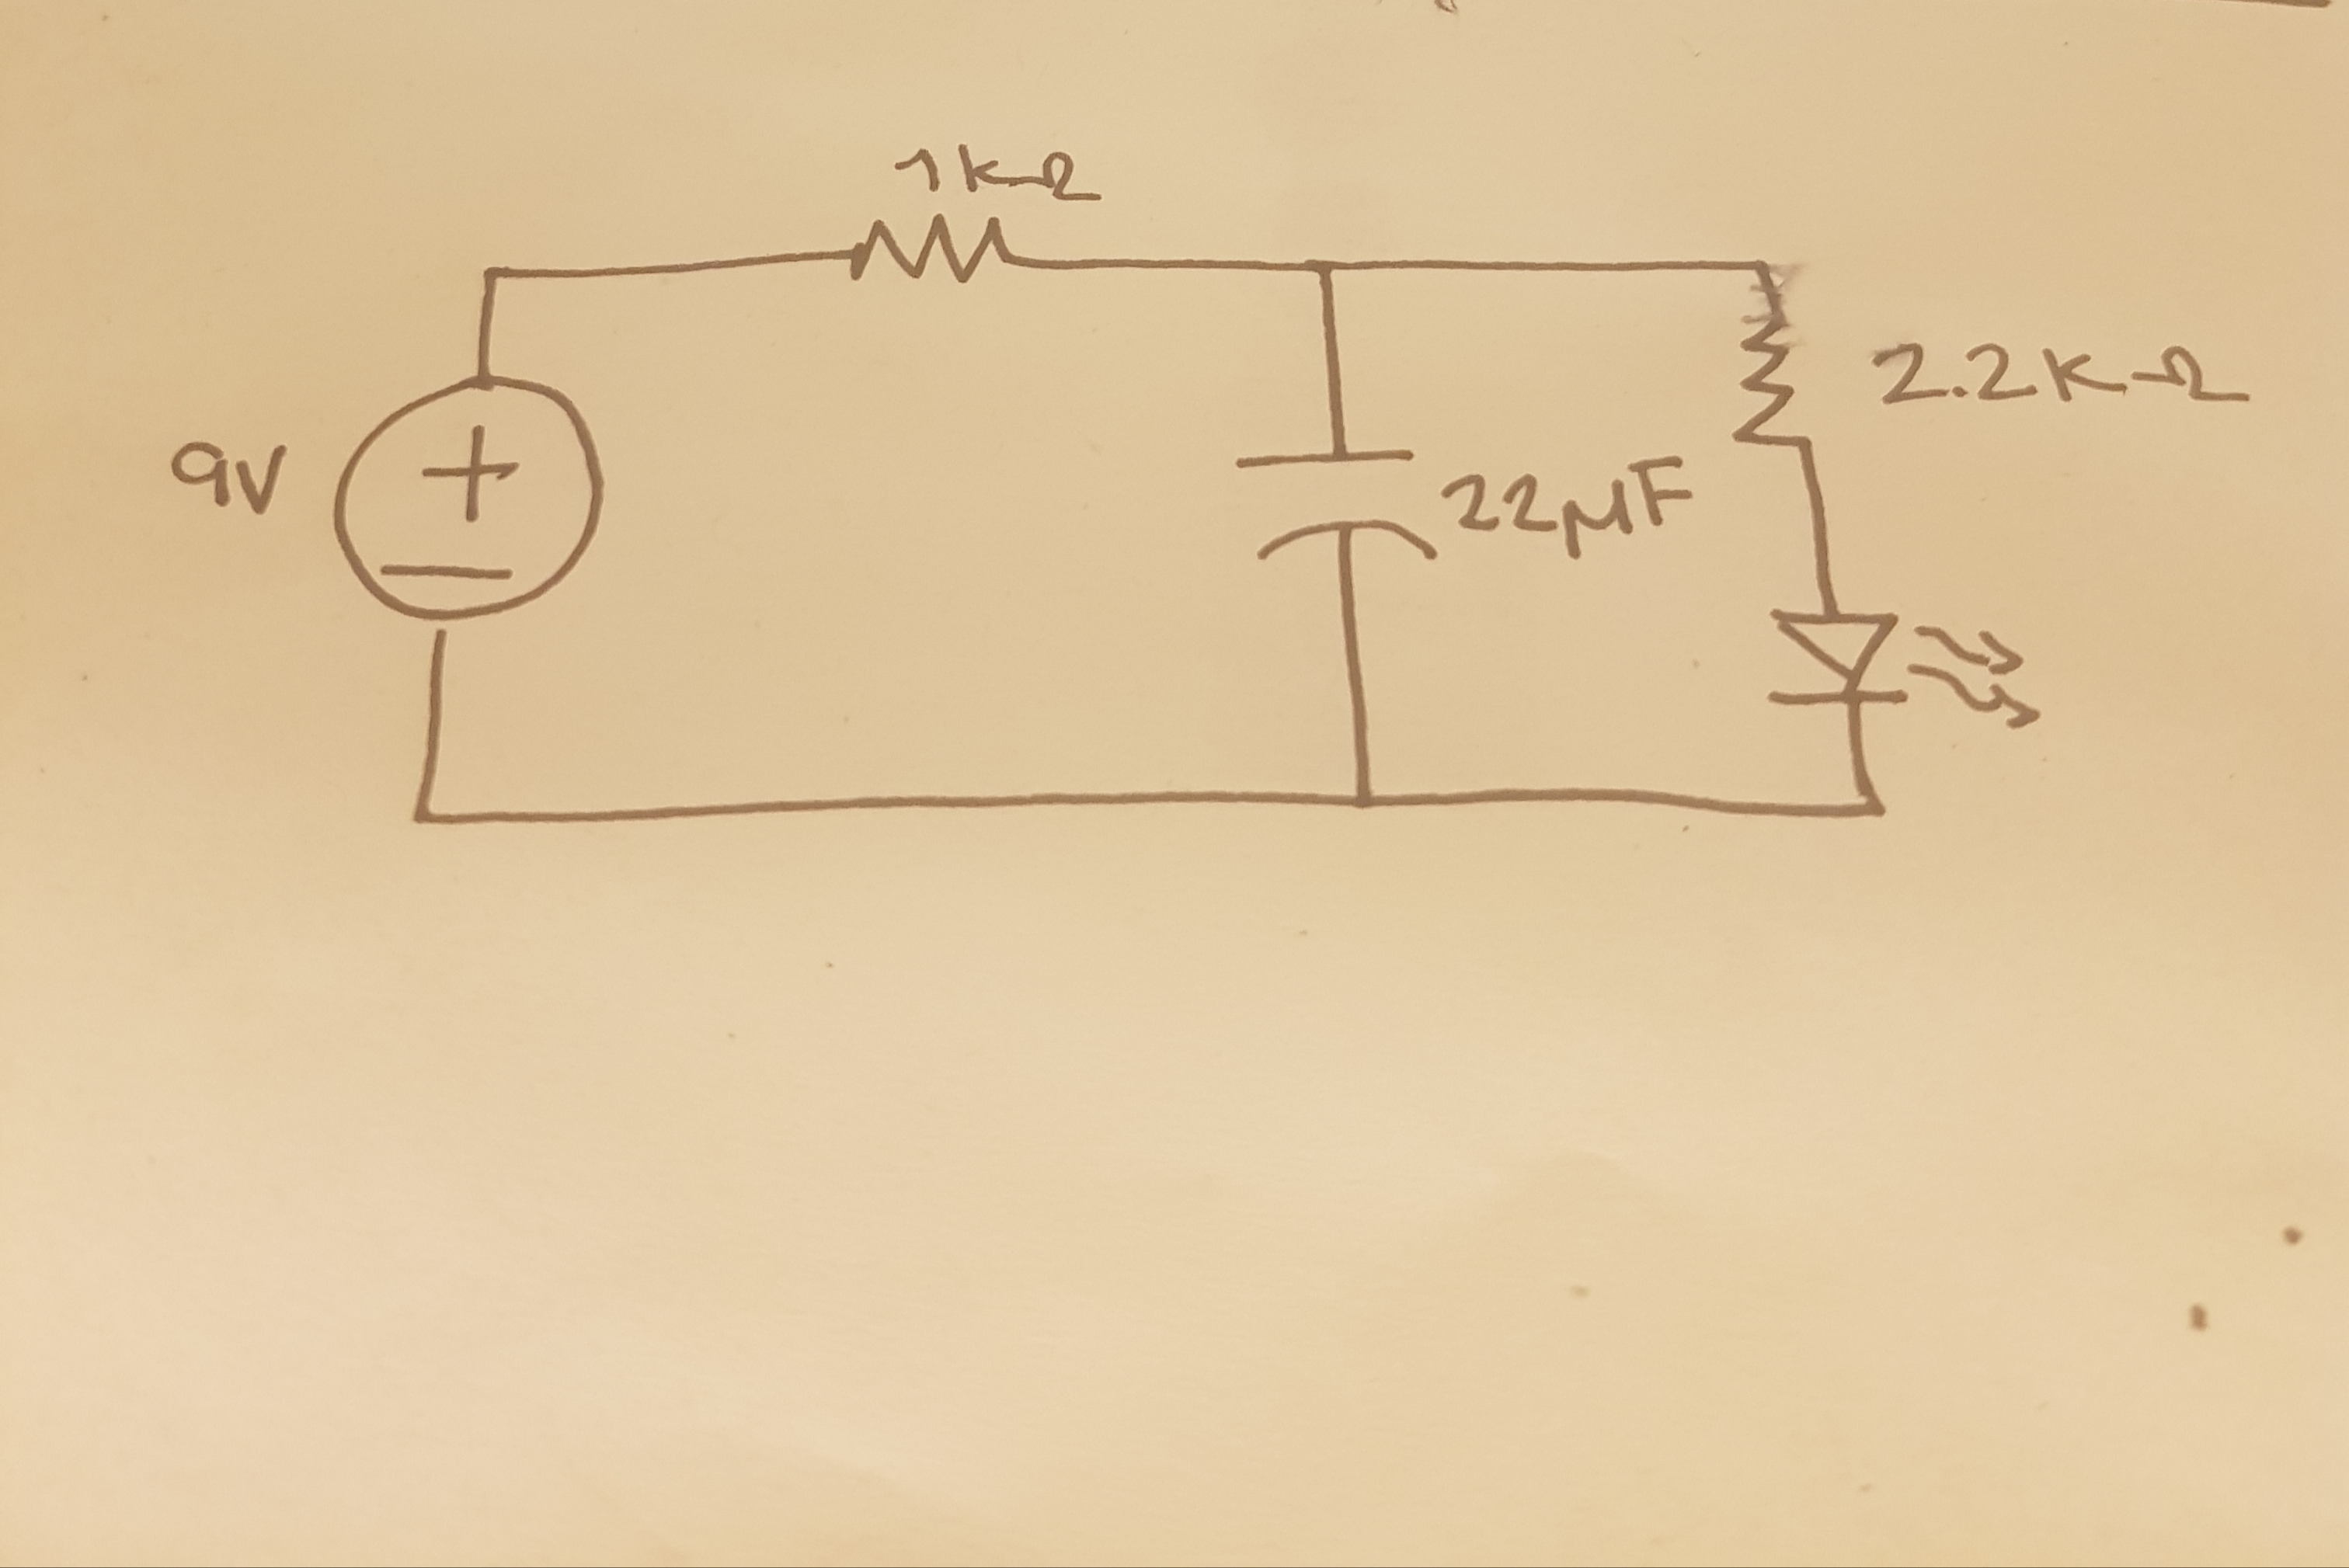capacitor.unpolarized: (1225, 425, 1456, 581)
diode.light_emitting: (1754, 595, 2046, 728)
junction: (1841, 781, 1904, 835), (1332, 774, 1388, 823), (469, 255, 518, 301), (401, 789, 443, 837), (1302, 249, 1351, 289), (1738, 249, 1789, 283)
resistor: (831, 205, 1048, 297), (1726, 320, 1824, 450)
text: (1855, 332, 2260, 413), (1430, 453, 1703, 563), (886, 138, 1104, 212), (159, 424, 287, 521)
voltage.dc: (305, 367, 634, 625)
